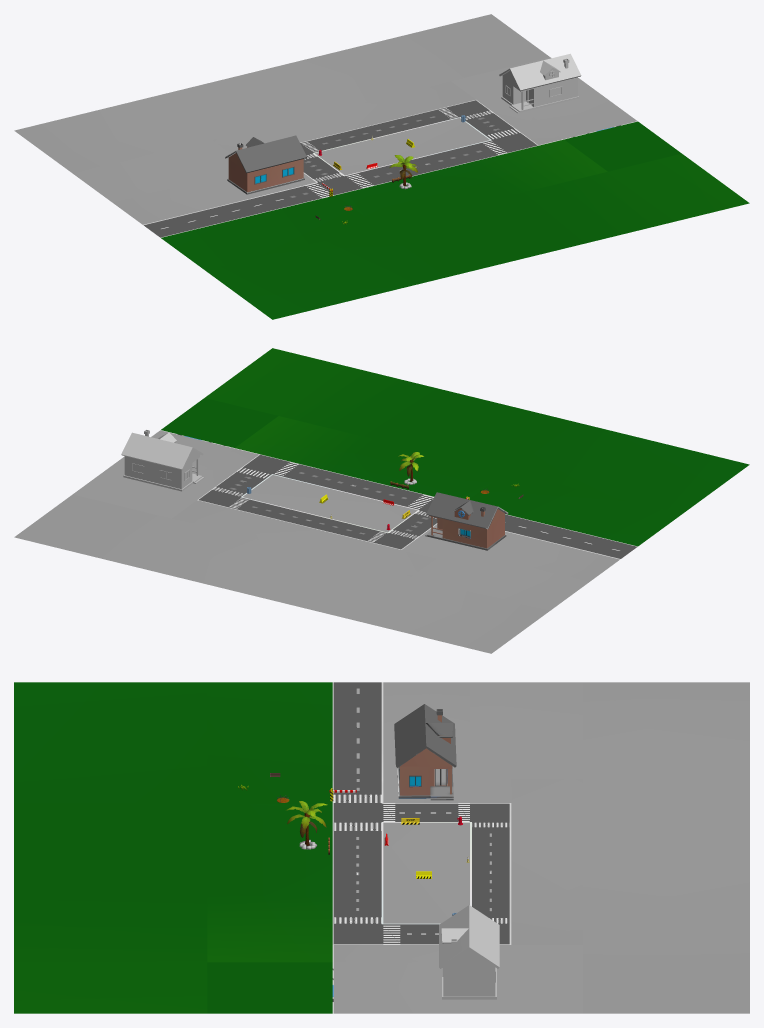
The model's file is scen2.fbx.
3 views of the same model, one above another, from view 1: azimuth 30°, elevation 25°; view 2: azimuth 150°, elevation 25°; view 3: azimuth 270°, elevation 25° (orthographic). The views are drawn at different scales.
Parts seen in each view (by area): view 1: road_ground, House 3 Complete.002, House 3 Complete.001; view 2: road_ground, House 3 Complete.001, House 3 Complete.002; view 3: road_ground, House 3 Complete.002, House 3 Complete.001, coconut_tree.
Part boxes in pixels (box(x1,y1,x2,y2)): road_ground: box(14, 14, 749, 319); House 3 Complete.002: box(225, 135, 306, 194); House 3 Complete.001: box(499, 53, 581, 113); road_ground: box(14, 348, 749, 653); House 3 Complete.001: box(121, 429, 204, 491); House 3 Complete.002: box(425, 492, 508, 550); road_ground: box(14, 682, 749, 1013); House 3 Complete.002: box(394, 704, 456, 800); House 3 Complete.001: box(439, 905, 499, 999); coconut_tree: box(286, 801, 327, 845).
Size of the model in its own units: 2084 by 161 by 1955.
